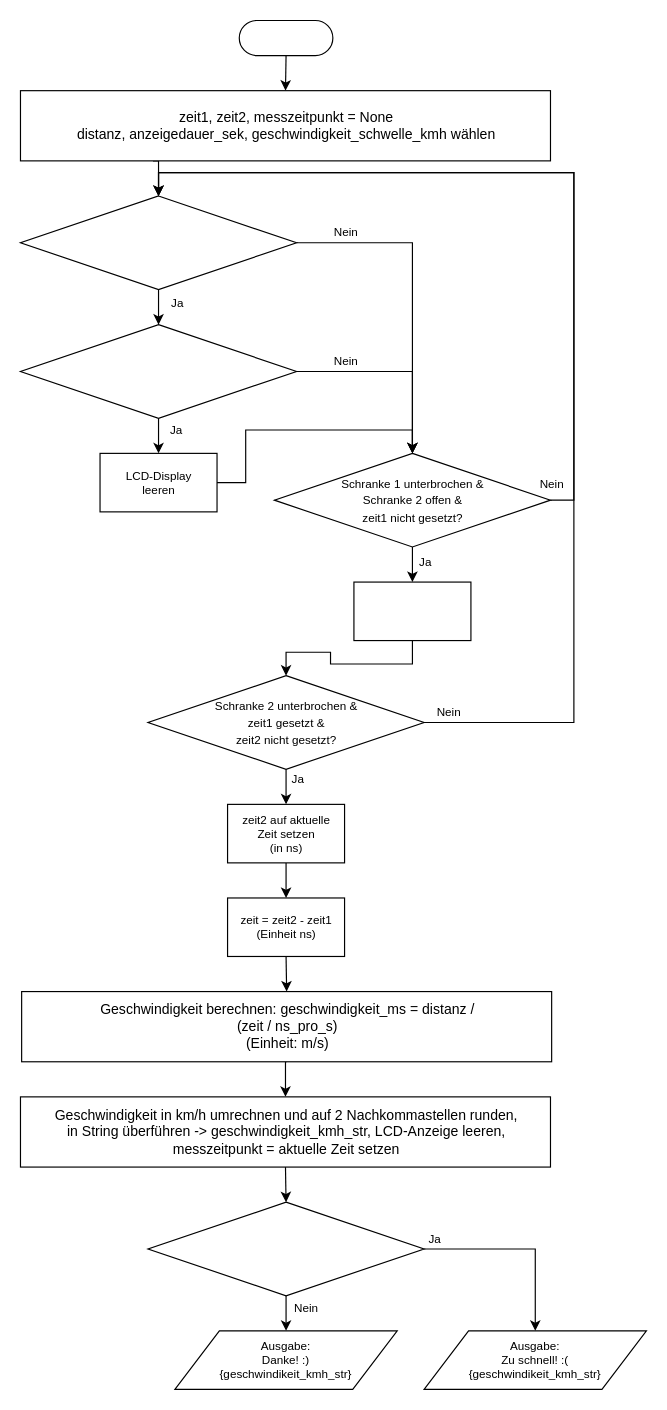
This 667x1410 diagram has some shape labels left out. Each missing label, with the box of its shape:
aktuelle Zeit > messzeitpunkt + anzeige- dauer_sek?: (19, 324, 297, 418)
geschwindigkeit_kmh > geschwindigkeit_schwelle_kmh?: (147, 1201, 424, 1296)
messzeitpunkt gesetzt?: (19, 195, 297, 290)
Start: (238, 19, 333, 56)
zeit1 auf aktuelle Zeit setzen (in ns): (353, 581, 471, 641)
